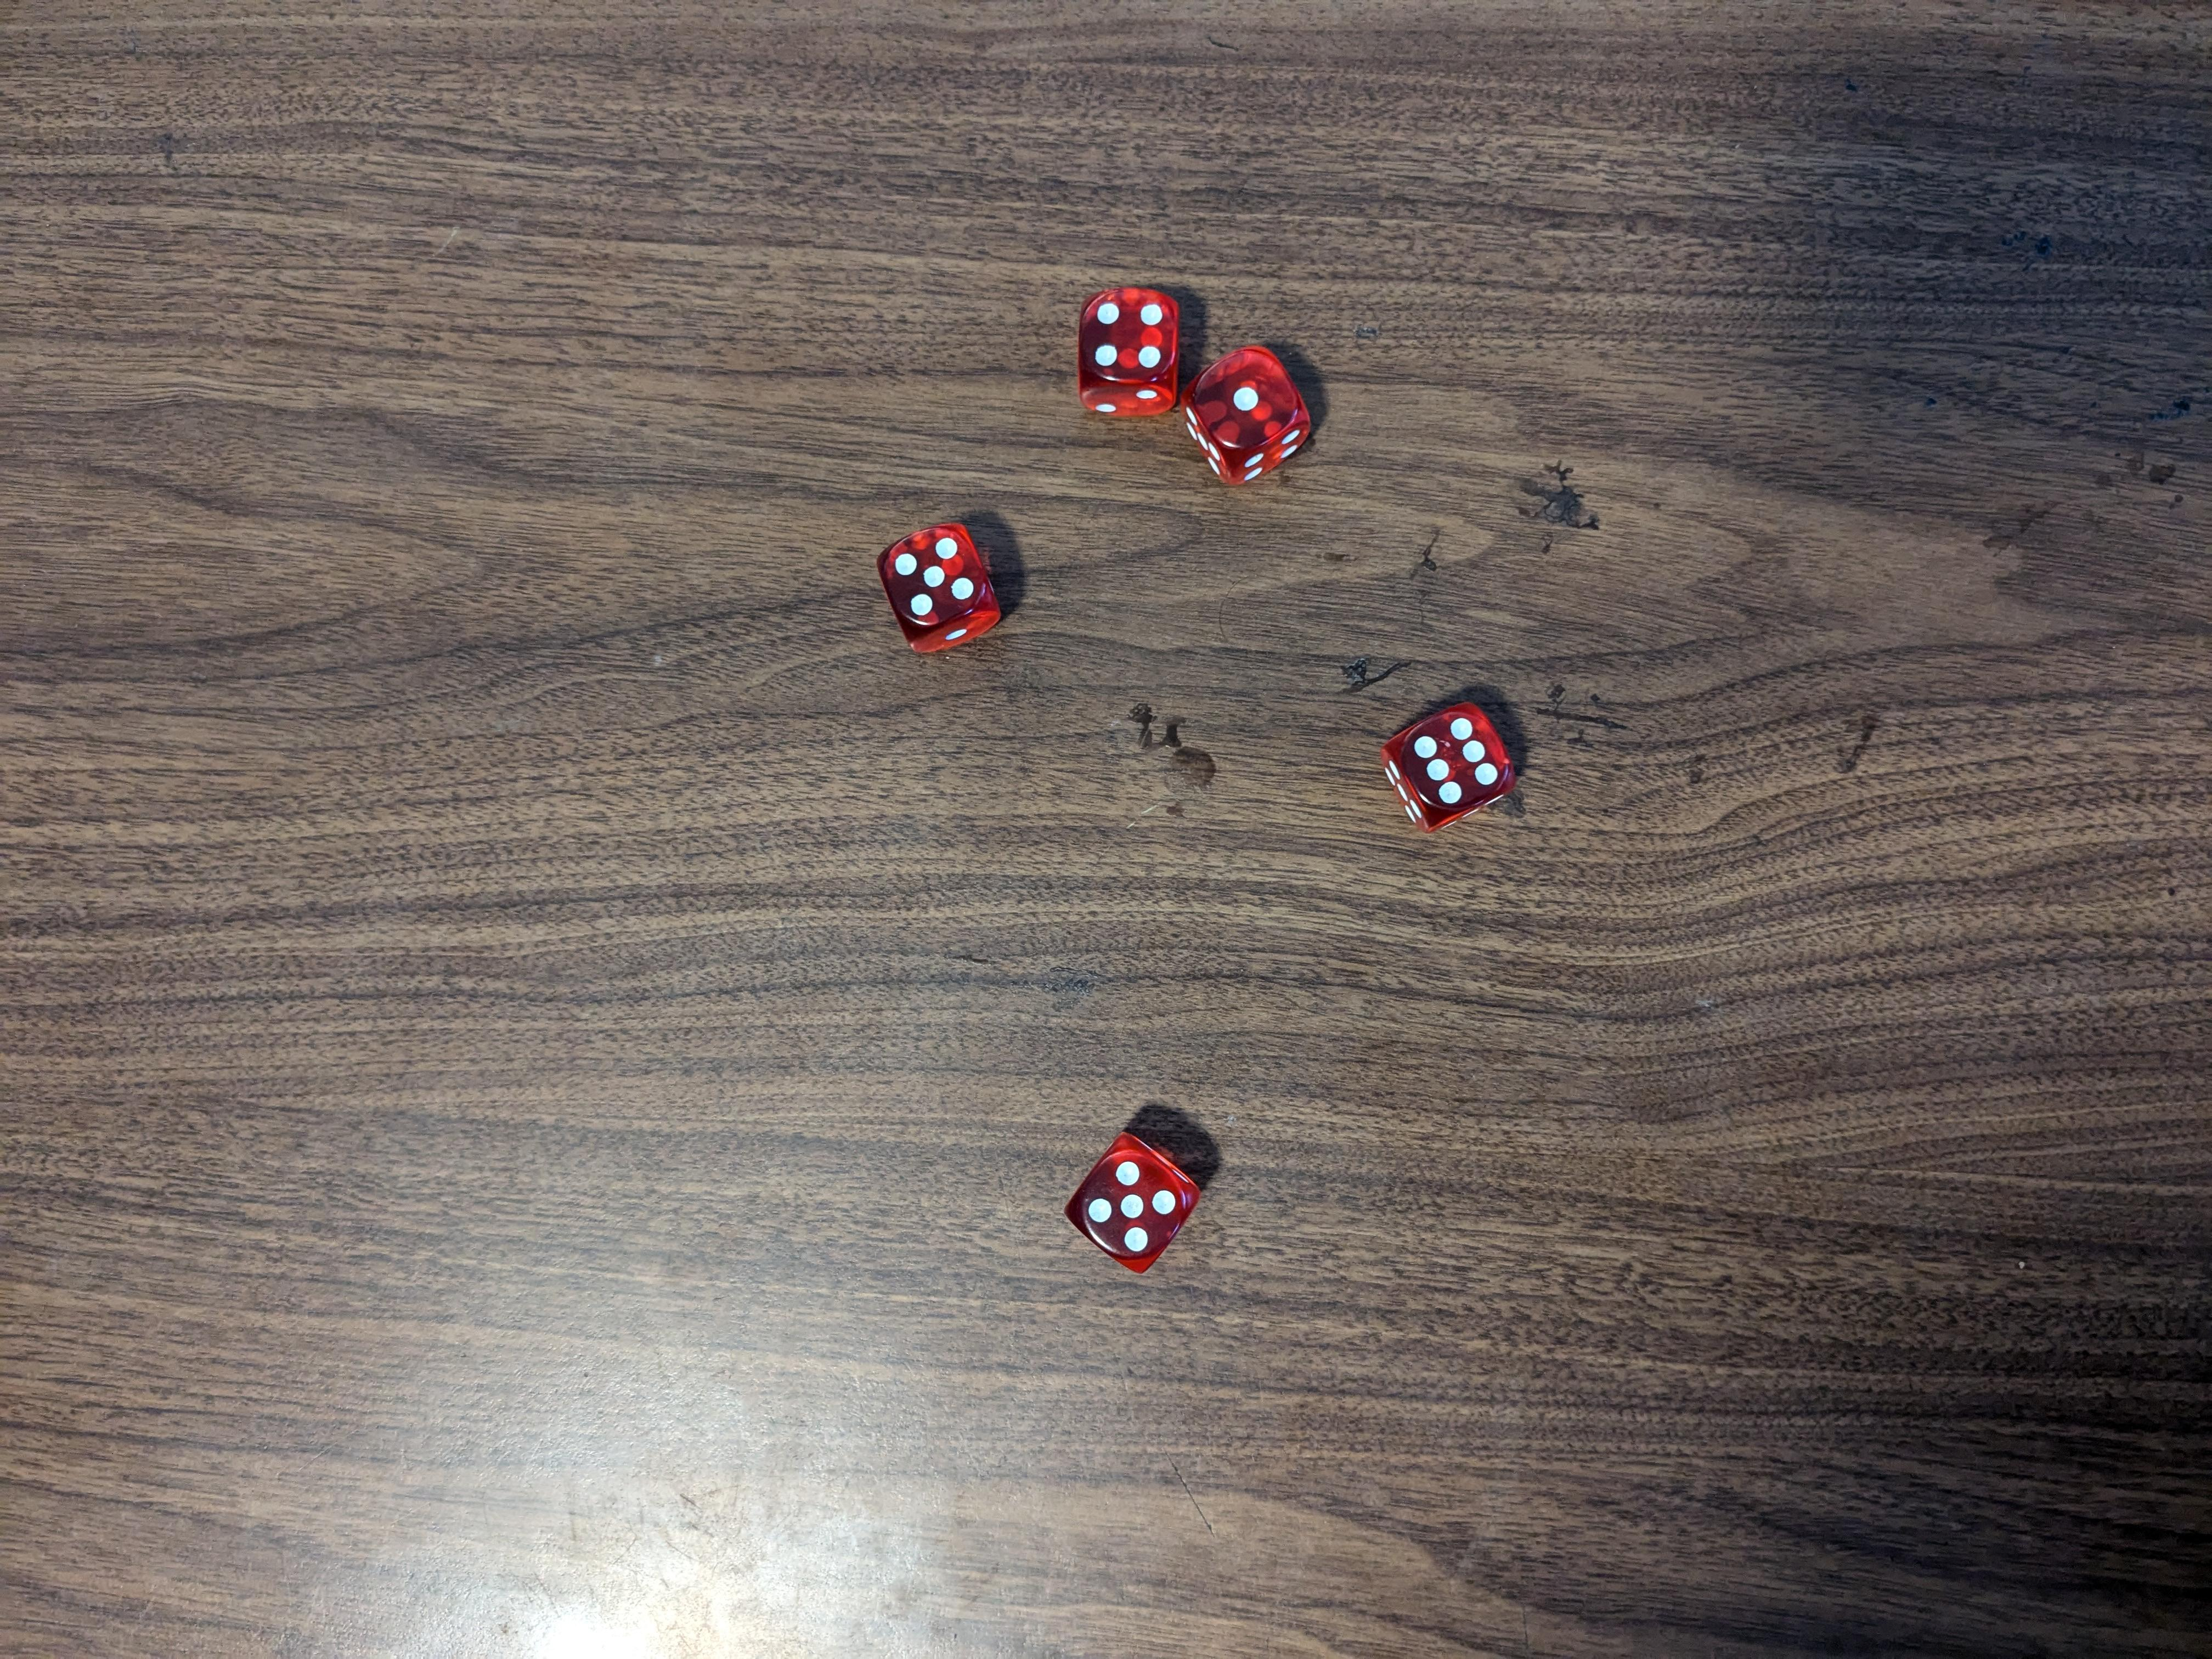five: (1064, 1138, 1207, 1279), (874, 521, 1000, 666)
four: (1075, 284, 1179, 422)
one: (1181, 343, 1317, 488)
six: (1372, 699, 1521, 838)
